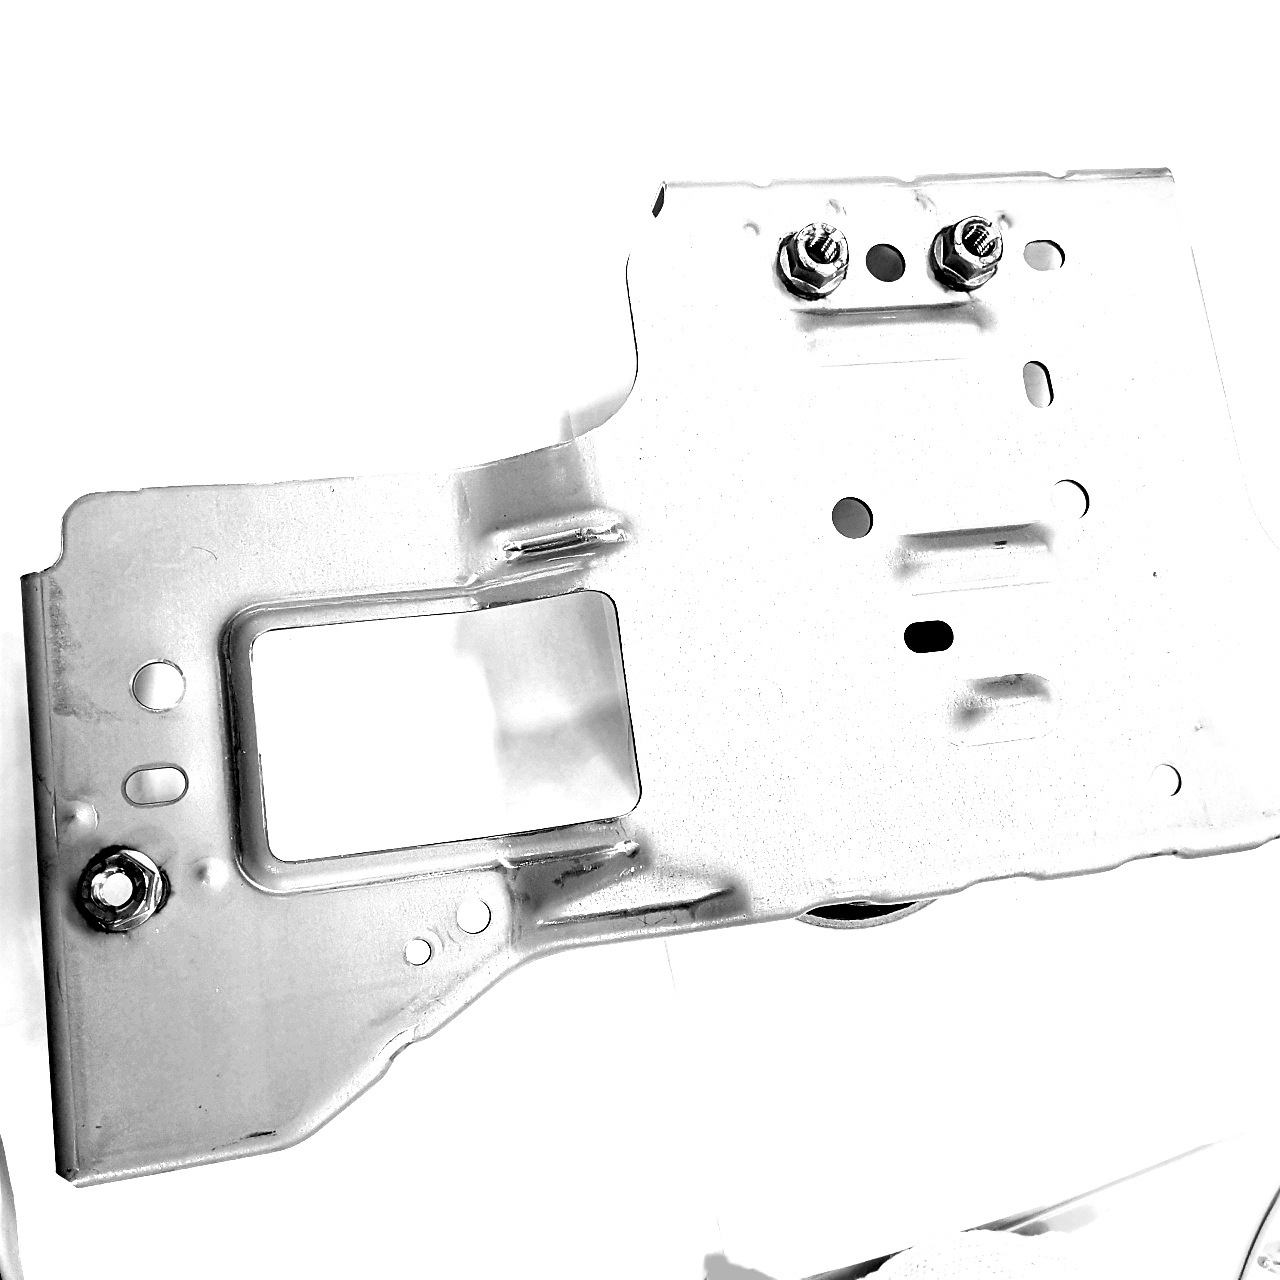dog: (68, 840, 173, 938), (765, 218, 855, 304), (926, 216, 1006, 297)
